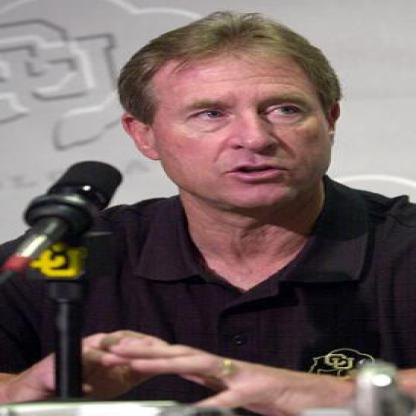face: (148, 23, 331, 211)
